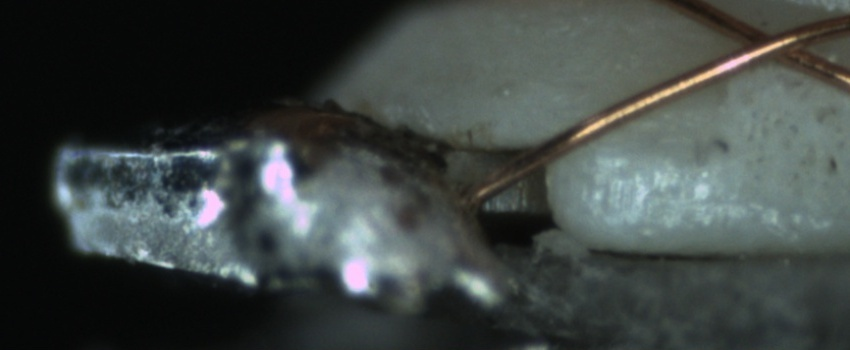CL: (715, 11, 829, 76)
